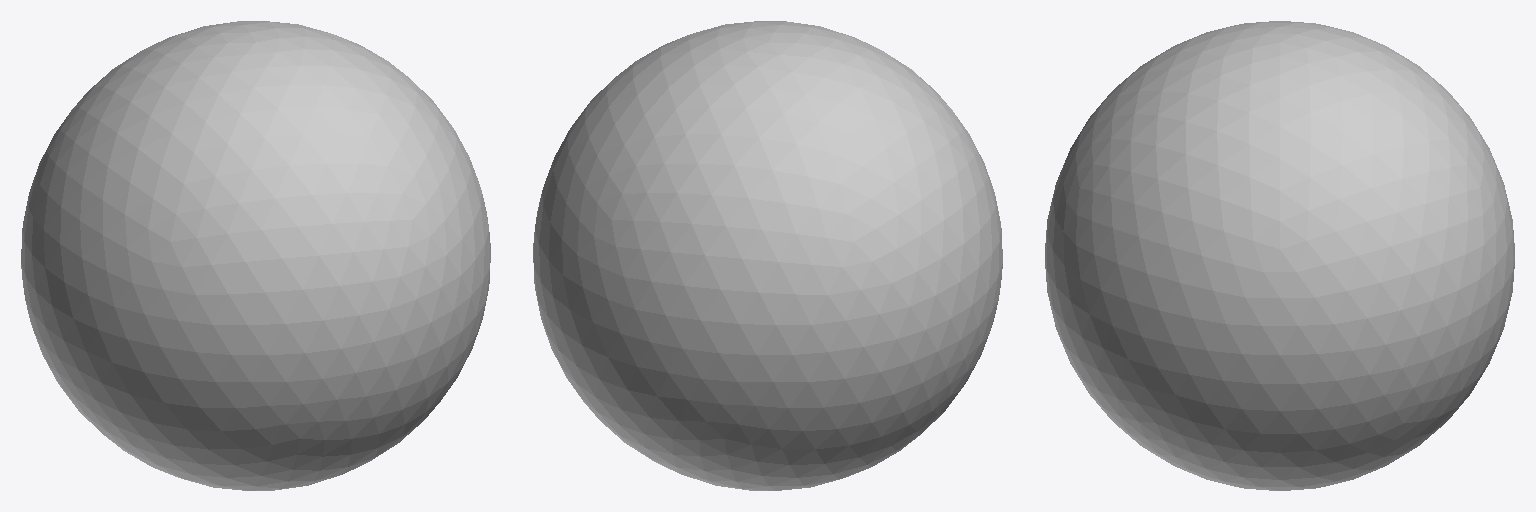
File: ball.obj
3 renders of one model, left to right at view 1: azimuth 30°, elevation 25°; view 2: azimuth 150°, elevation 25°; view 3: azimuth 270°, elevation 25°, orthographic.
Parts seen in each view (by area): view 1: Icosphere; view 2: Icosphere; view 3: Icosphere.
Part boxes in pixels (left/top/right/bottom): Icosphere: left=21, top=21, right=490, bottom=490; Icosphere: left=533, top=21, right=1002, bottom=490; Icosphere: left=1045, top=21, right=1514, bottom=490.
Size of the model in its own units: 0.05 by 0.05 by 0.05.